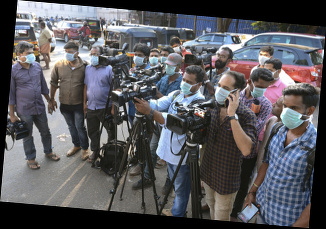with_mask: (280, 102, 306, 131), (216, 83, 235, 105), (180, 77, 199, 96), (251, 84, 268, 99), (21, 49, 36, 64), (64, 49, 78, 63), (133, 53, 146, 67), (258, 53, 271, 66), (165, 64, 177, 77), (90, 52, 101, 66), (159, 53, 170, 66), (149, 53, 159, 65), (171, 44, 182, 53)
without_mask: (215, 53, 229, 69), (272, 101, 284, 117)
